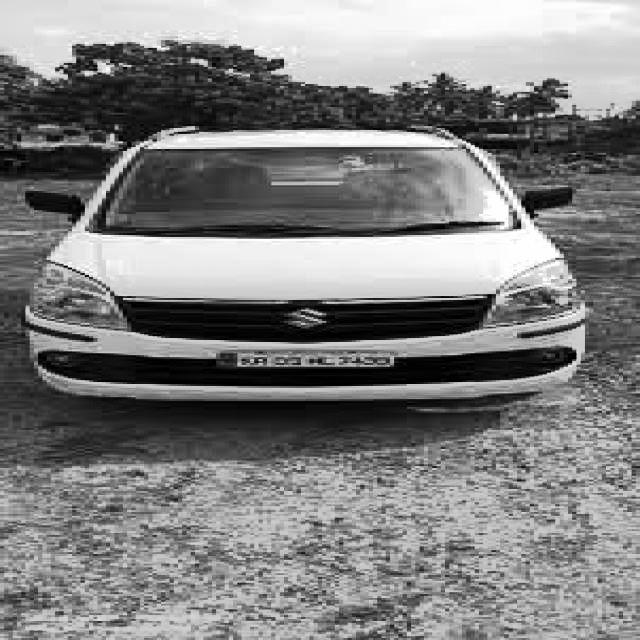Car: (39, 121, 615, 405)
